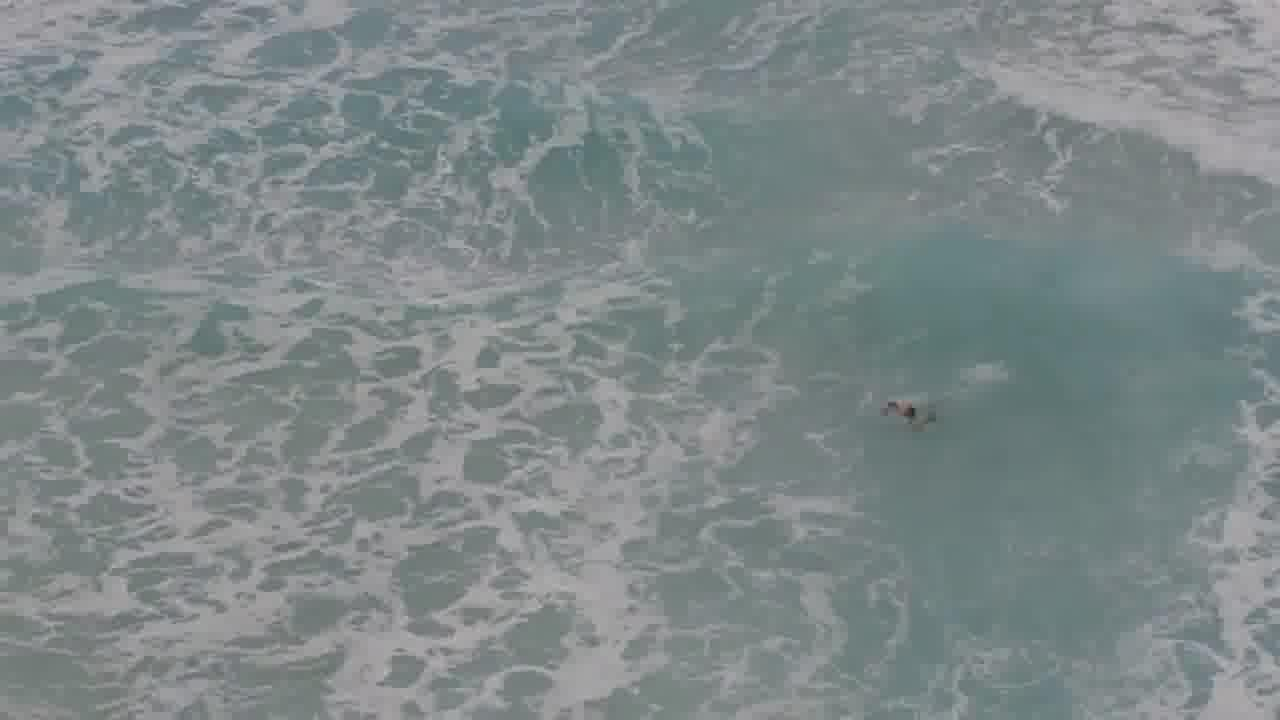swimmer: (865, 378, 943, 438)
